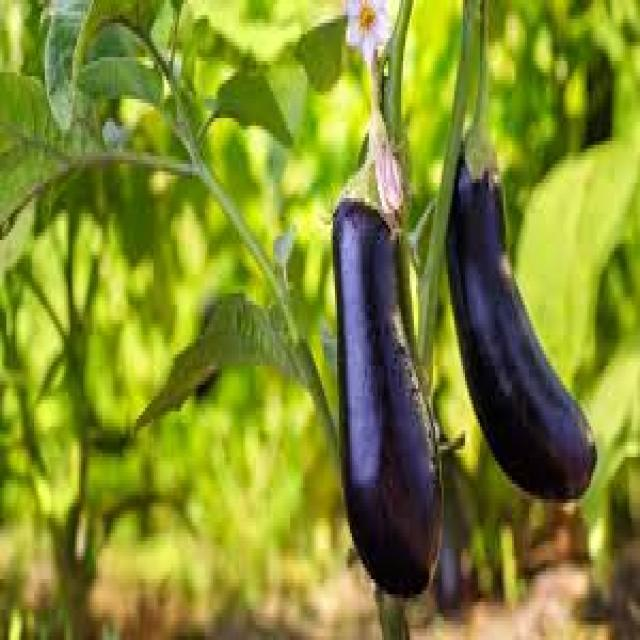Eggplant: (445, 70, 600, 510), (329, 87, 448, 597)
